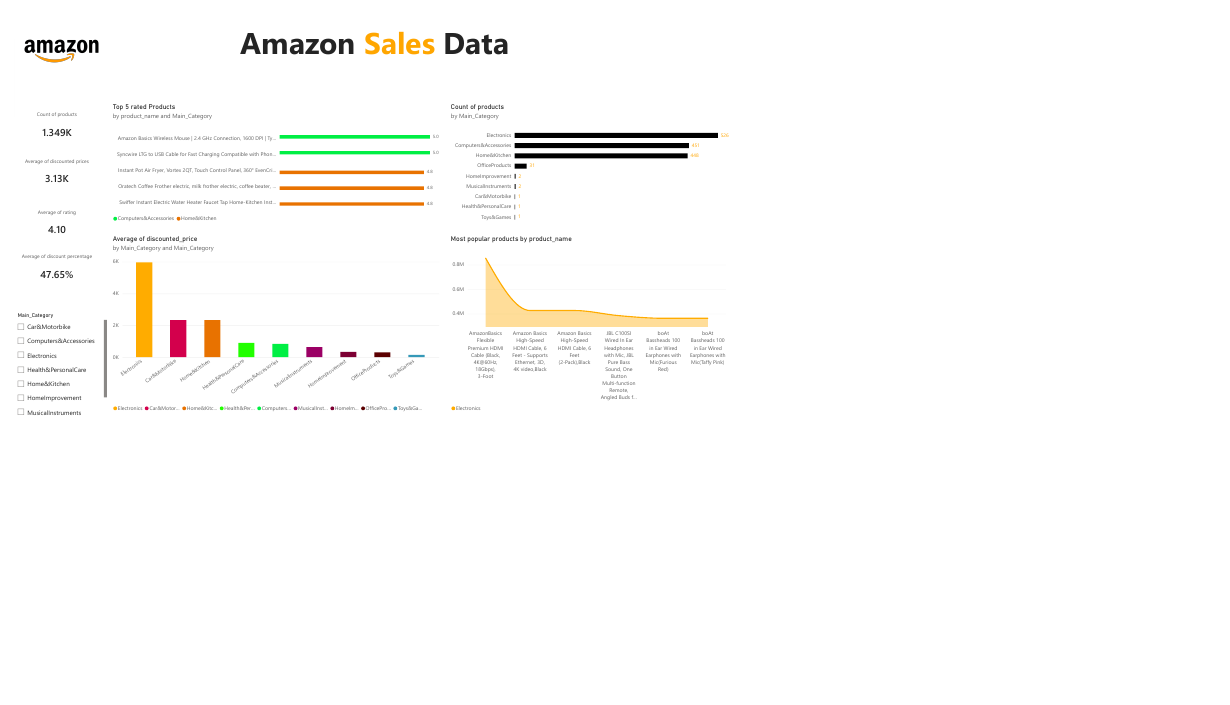

Layout of this report page (visuals, bound fields, positions):
{"tool":"powerbi","page":{"name":"Page 1","canvas":[1920,1080],"ordinal":0},"visuals":[{"type":"cardVisual","fields":{"Data":["Count(amazon_cleaned.product_id)"]},"box":[0,214.5,224.7,160.5],"z":0},{"type":"cardVisual","fields":{"Data":["Avg(amazon_cleaned.discounted_price)"]},"box":[0,348.7,224.7,141.5],"z":1000},{"type":"cardVisual","fields":{"Data":["Avg(amazon_cleaned.rating)"]},"box":[0,490.2,224.7,129.8],"z":2000},{"type":"cardVisual","fields":{"Data":["Avg(amazon_cleaned.discount_percentage)"]},"box":[0,620.1,224.7,106.5],"z":3000},{"type":"clusteredBarChart","fields":{"Category":["amazon_cleaned.Main_Category"],"Y":["CountNonNull(amazon_cleaned.product_id)"]},"box":[1146.7,221.7,773.3,351.7],"z":4000},{"type":"columnChart","title":"Average of discounted_price","fields":{"Category":["amazon_cleaned.Main_Category"],"Series":["amazon_cleaned.Main_Category"],"Y":["Avg(amazon_cleaned.discounted_price)"]},"box":[245.1,573.4,901.6,506.3],"z":5000},{"type":"areaChart","title":"Most popular products by product_name","fields":{"Category":["amazon_cleaned.product_name"],"Series":["amazon_cleaned.Main_Category"],"Y":["Sum(amazon_cleaned.rating_count)"]},"box":[1146.7,573.4,773.3,506.3],"z":6000},{"type":"clusteredBarChart","fields":{"Category":["amazon_cleaned.product_name"],"Series":["amazon_cleaned.Main_Category"],"Y":["Avg(amazon_cleaned.rating)"]},"box":[245.1,221.8,901.6,351.6],"z":7000},{"type":"textbox","box":[0,0,1920,154.7],"z":8000},{"type":"slicer","fields":{"Values":["amazon_cleaned.Main_Category"]},"box":[0,795.1,245.1,284.5],"z":9000},{"type":"image","box":[21.9,19,202.8,154.7],"z":10000}]}

Visuals, with their boxes in screenshot pixels (x1, y1, x2, y2), scaled from the page's 1920x1080 canvas onto the 1230x705 screenshot:
cardVisual - Count(amazon_cleaned.product_id): pyautogui.locateOnScreen(0, 140, 144, 245)
cardVisual - Avg(amazon_cleaned.discounted_price): pyautogui.locateOnScreen(0, 228, 144, 320)
cardVisual - Avg(amazon_cleaned.rating): pyautogui.locateOnScreen(0, 320, 144, 405)
cardVisual - Avg(amazon_cleaned.discount_percentage): pyautogui.locateOnScreen(0, 405, 144, 474)
clusteredBarChart - amazon_cleaned.Main_Category x CountNonNull(amazon_cleaned.product_id): pyautogui.locateOnScreen(735, 145, 1229, 374)
"Average of discounted_price" columnChart: pyautogui.locateOnScreen(157, 374, 735, 704)
"Most popular products by product_name" areaChart: pyautogui.locateOnScreen(735, 374, 1229, 704)
clusteredBarChart - amazon_cleaned.product_name x amazon_cleaned.Main_Category: pyautogui.locateOnScreen(157, 145, 735, 374)
textbox: pyautogui.locateOnScreen(0, 0, 1229, 101)
slicer - amazon_cleaned.Main_Category: pyautogui.locateOnScreen(0, 519, 157, 704)
image: pyautogui.locateOnScreen(14, 12, 144, 113)
